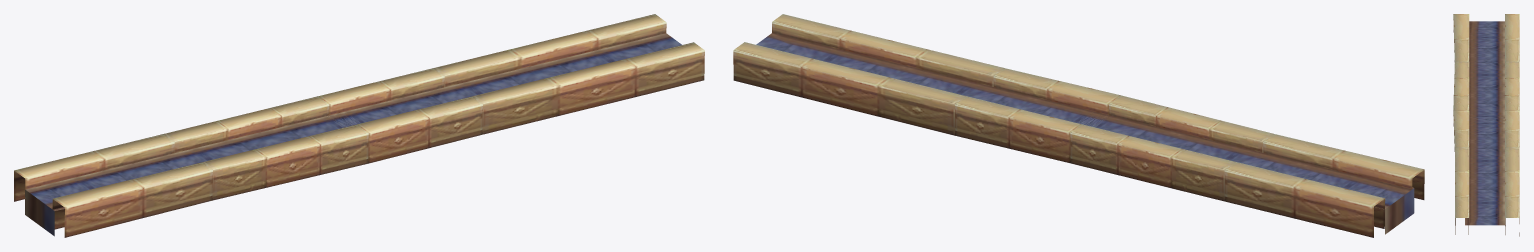
The model's file is S_Build_City106_2.FBX.
3 views of the same model, side by side, from view 1: azimuth 30°, elevation 25°; view 2: azimuth 150°, elevation 25°; view 3: azimuth 270°, elevation 25° (orthographic). The views are drawn at different scales.
Visible parts, largest first — view 1: S_Build_City106_2; view 2: S_Build_City106_2; view 3: S_Build_City106_2.
Boxes of the visible parts, <box> form: S_Build_City106_2: <box>14,14,704,237</box>; S_Build_City106_2: <box>733,14,1424,237</box>; S_Build_City106_2: <box>1453,14,1519,236</box>.
Size of the model in its own units: 2203 by 120 by 303.
